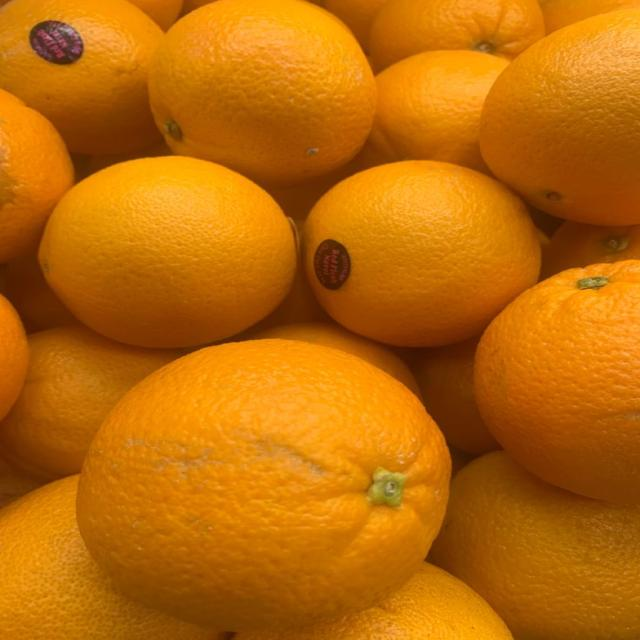orange: (78, 339, 450, 631), (40, 156, 296, 347), (302, 161, 539, 346), (149, 0, 375, 184), (474, 260, 639, 502), (429, 452, 639, 639), (0, 475, 220, 639), (480, 10, 639, 225), (0, 324, 181, 479), (0, 0, 162, 153), (233, 563, 513, 639), (368, 50, 508, 172), (251, 321, 419, 397), (0, 89, 73, 263), (369, 0, 545, 71), (412, 337, 499, 455), (229, 253, 330, 340), (4, 255, 75, 332), (541, 222, 639, 277), (317, 0, 386, 52), (82, 139, 172, 178), (0, 295, 28, 419), (539, 0, 639, 33), (0, 449, 45, 508), (129, 0, 182, 30), (448, 445, 476, 478), (180, 0, 217, 16)
